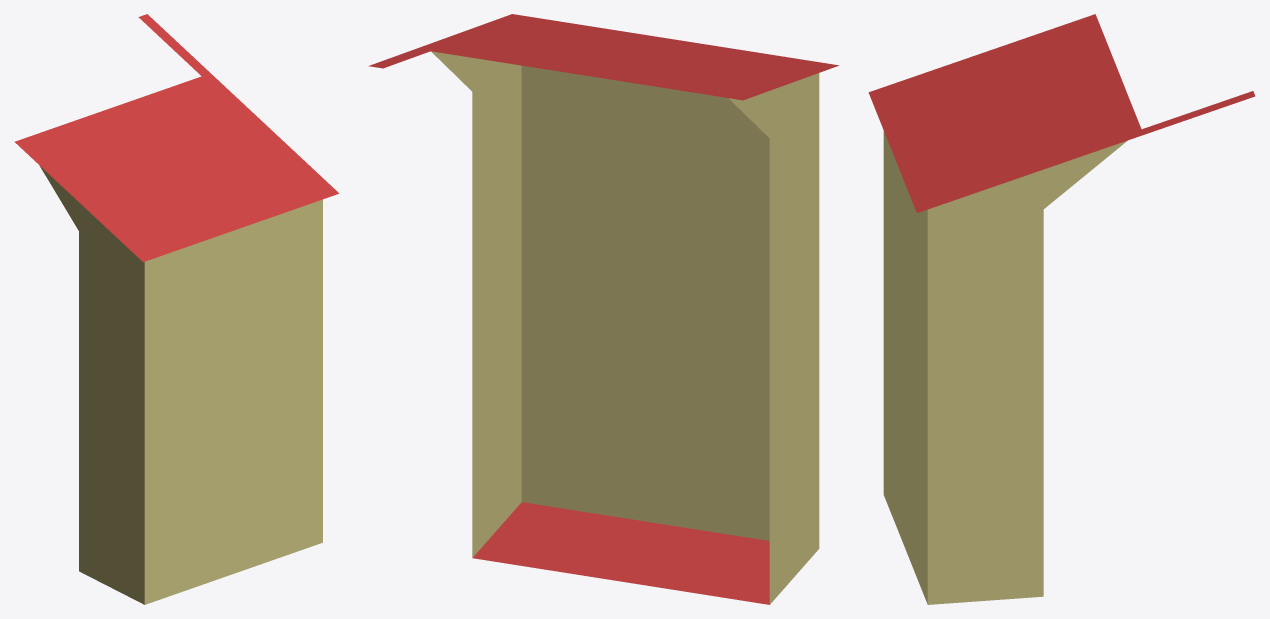
3 views of the same model, side by side, from view 1: azimuth 30°, elevation 25°; view 2: azimuth 150°, elevation 25°; view 3: azimuth 270°, elevation 25° (orthographic). The views are drawn at different scales.
Bounding box in the file's own units: 6.09 × 7.27 × 10.17.
